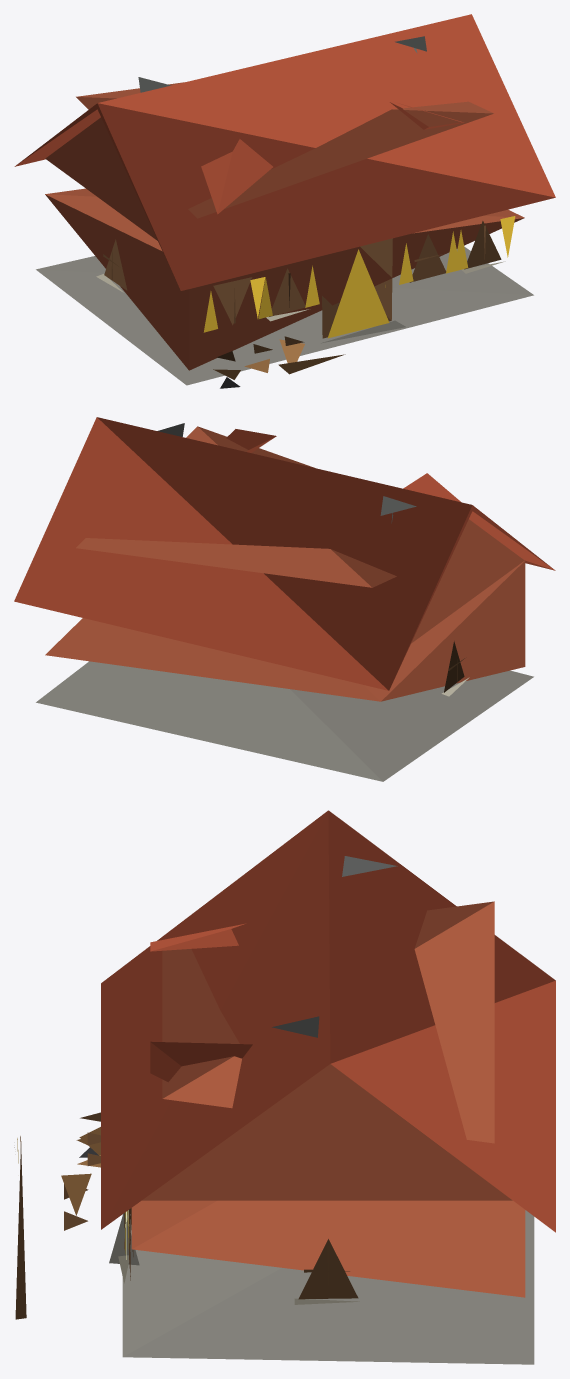
The model's file is inn_golden_perch_lod2.glb.
3 renders of one model, top to bottom at view 1: azimuth 30°, elevation 25°; view 2: azimuth 150°, elevation 25°; view 3: azimuth 270°, elevation 25°, orthographic. The views are drawn at different scales.
Parts seen in each view (by area): view 1: inn_golden_perch_lod2; view 2: inn_golden_perch_lod2; view 3: inn_golden_perch_lod2.
Part boxes in pixels (bbox=[...]): inn_golden_perch_lod2: bbox=[14, 14, 555, 388]; inn_golden_perch_lod2: bbox=[14, 417, 555, 781]; inn_golden_perch_lod2: bbox=[14, 810, 555, 1364].
Size of the model in its own units: 9.6 by 5.77 by 8.81.
